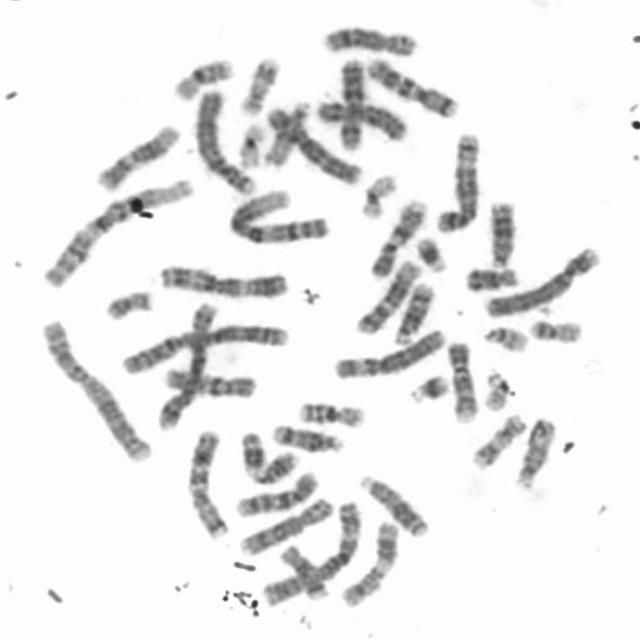A1: (36, 172, 199, 290), (224, 184, 335, 246)
A2: (35, 314, 154, 465), (116, 318, 291, 376)
A3: (255, 495, 364, 607), (153, 258, 291, 300)
B4: (480, 241, 604, 320), (190, 82, 258, 198)
B5: (150, 295, 218, 431), (432, 126, 484, 234)
C10: (229, 465, 322, 519), (160, 361, 260, 400)
C11: (336, 516, 402, 609), (236, 425, 301, 487)
C12: (91, 118, 184, 194), (350, 253, 425, 337)
C6: (261, 100, 364, 185), (328, 322, 449, 381)
C7: (360, 50, 460, 120), (182, 423, 232, 540)
C8: (235, 490, 338, 558), (318, 20, 420, 58)
C9: (365, 193, 430, 279), (442, 334, 482, 425)
D13: (354, 468, 432, 539), (484, 194, 520, 270)
D14: (390, 276, 439, 346), (266, 418, 346, 455)
D15: (510, 410, 560, 491), (259, 96, 313, 170)
E16: (167, 51, 236, 103), (292, 395, 368, 430)
E17: (466, 408, 529, 472), (234, 49, 282, 118)
E18: (276, 540, 330, 601), (460, 260, 522, 294)
F19: (355, 168, 400, 220), (232, 116, 268, 171)
F20: (100, 283, 156, 322), (524, 312, 586, 344)
G21: (403, 368, 453, 406), (411, 230, 451, 274)
G22: (478, 319, 531, 354), (478, 363, 513, 413)
X: (312, 92, 413, 143), (334, 52, 368, 152)
